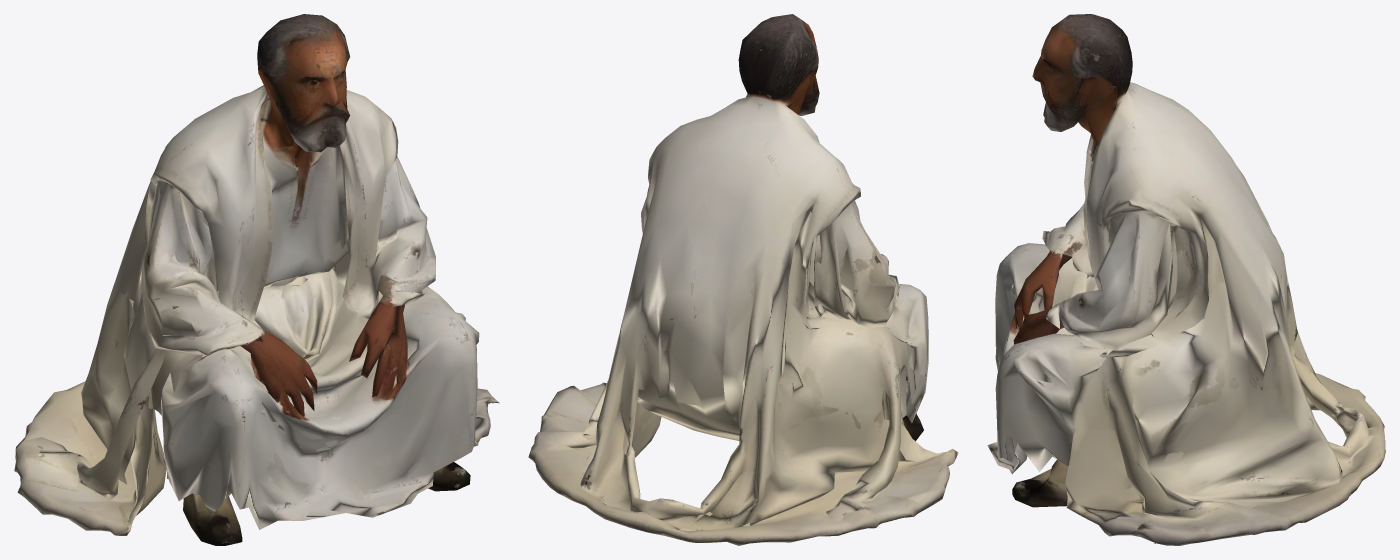
Rendered from elderB.glb.
3 views of the same model, side by side, from view 1: azimuth 30°, elevation 25°; view 2: azimuth 150°, elevation 25°; view 3: azimuth 270°, elevation 25° (orthographic). The views are drawn at different scales.
Parts seen in each view (by area): view 1: geometry_0; view 2: geometry_0; view 3: geometry_0.
Boxes of the visible parts, x1,y1,x2,y2 form: geometry_0: (14, 14, 499, 545); geometry_0: (528, 14, 958, 545); geometry_0: (987, 14, 1385, 545).
Size of the model in its own units: 0.987 by 0.998 by 0.8289.
Materials: 1 (1 with a texture image).
